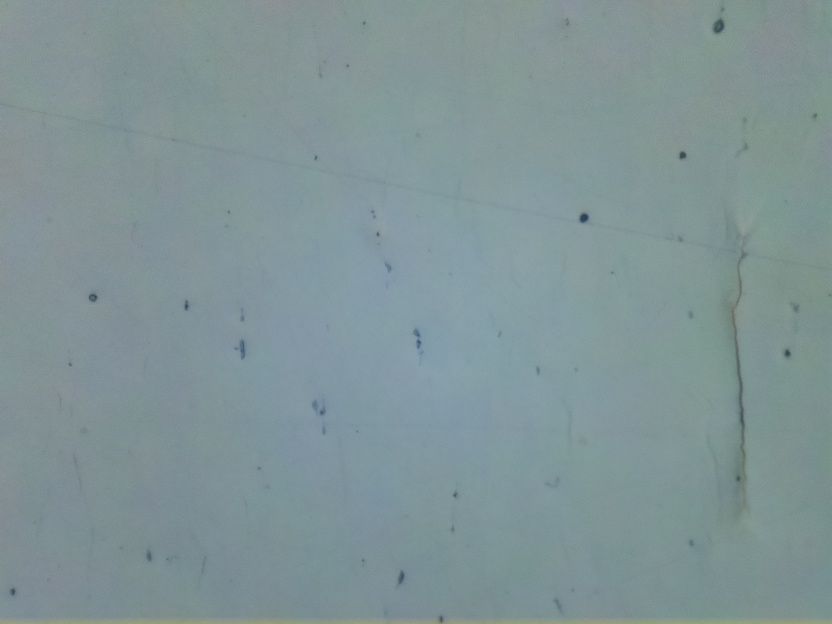crack: (731, 248, 748, 520)
